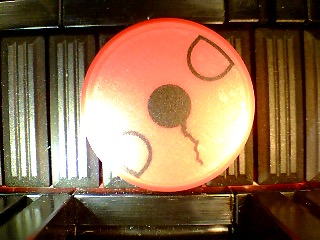CRACK: (80, 18, 256, 192)
